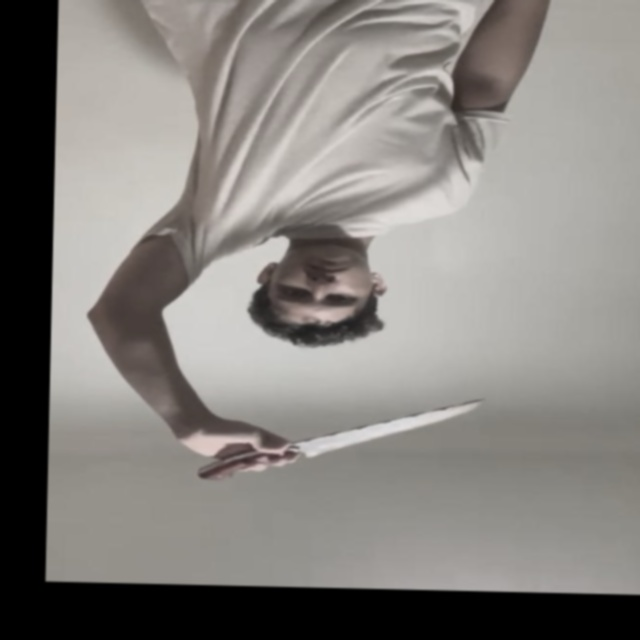Sharp-Object: (296, 397, 480, 465)
